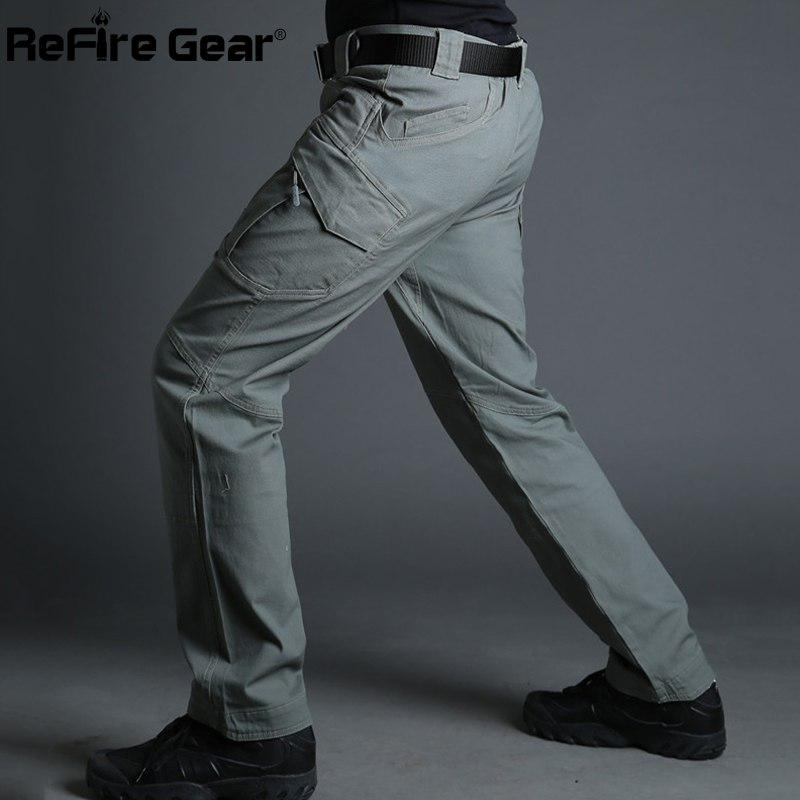pants: (155, 48, 721, 746)
